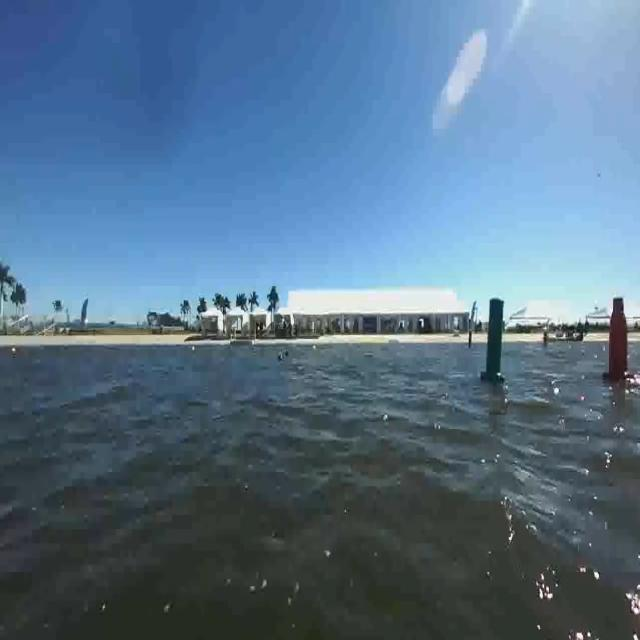green-column-buoy: (482, 294, 507, 386)
red-column-buoy: (604, 293, 635, 386)
